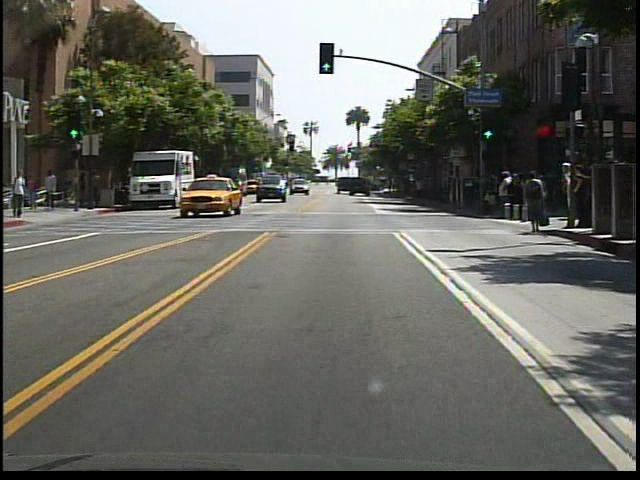person: (519, 169, 549, 237), (43, 166, 63, 214), (14, 168, 32, 220), (90, 169, 107, 209), (28, 171, 44, 213), (79, 170, 91, 207)
